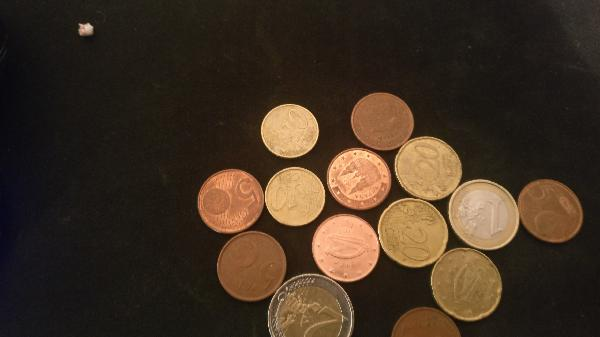Five Cent: (213, 230, 287, 302), (309, 211, 382, 279), (521, 175, 586, 248), (198, 167, 266, 229), (325, 148, 392, 208), (350, 92, 416, 149)
One Euro: (449, 179, 520, 252)
Ten Cent: (264, 166, 327, 226), (262, 103, 317, 160)
Twenty Cent: (430, 246, 509, 318), (375, 194, 447, 264), (396, 136, 461, 200)
Two Euro: (268, 278, 355, 337)
